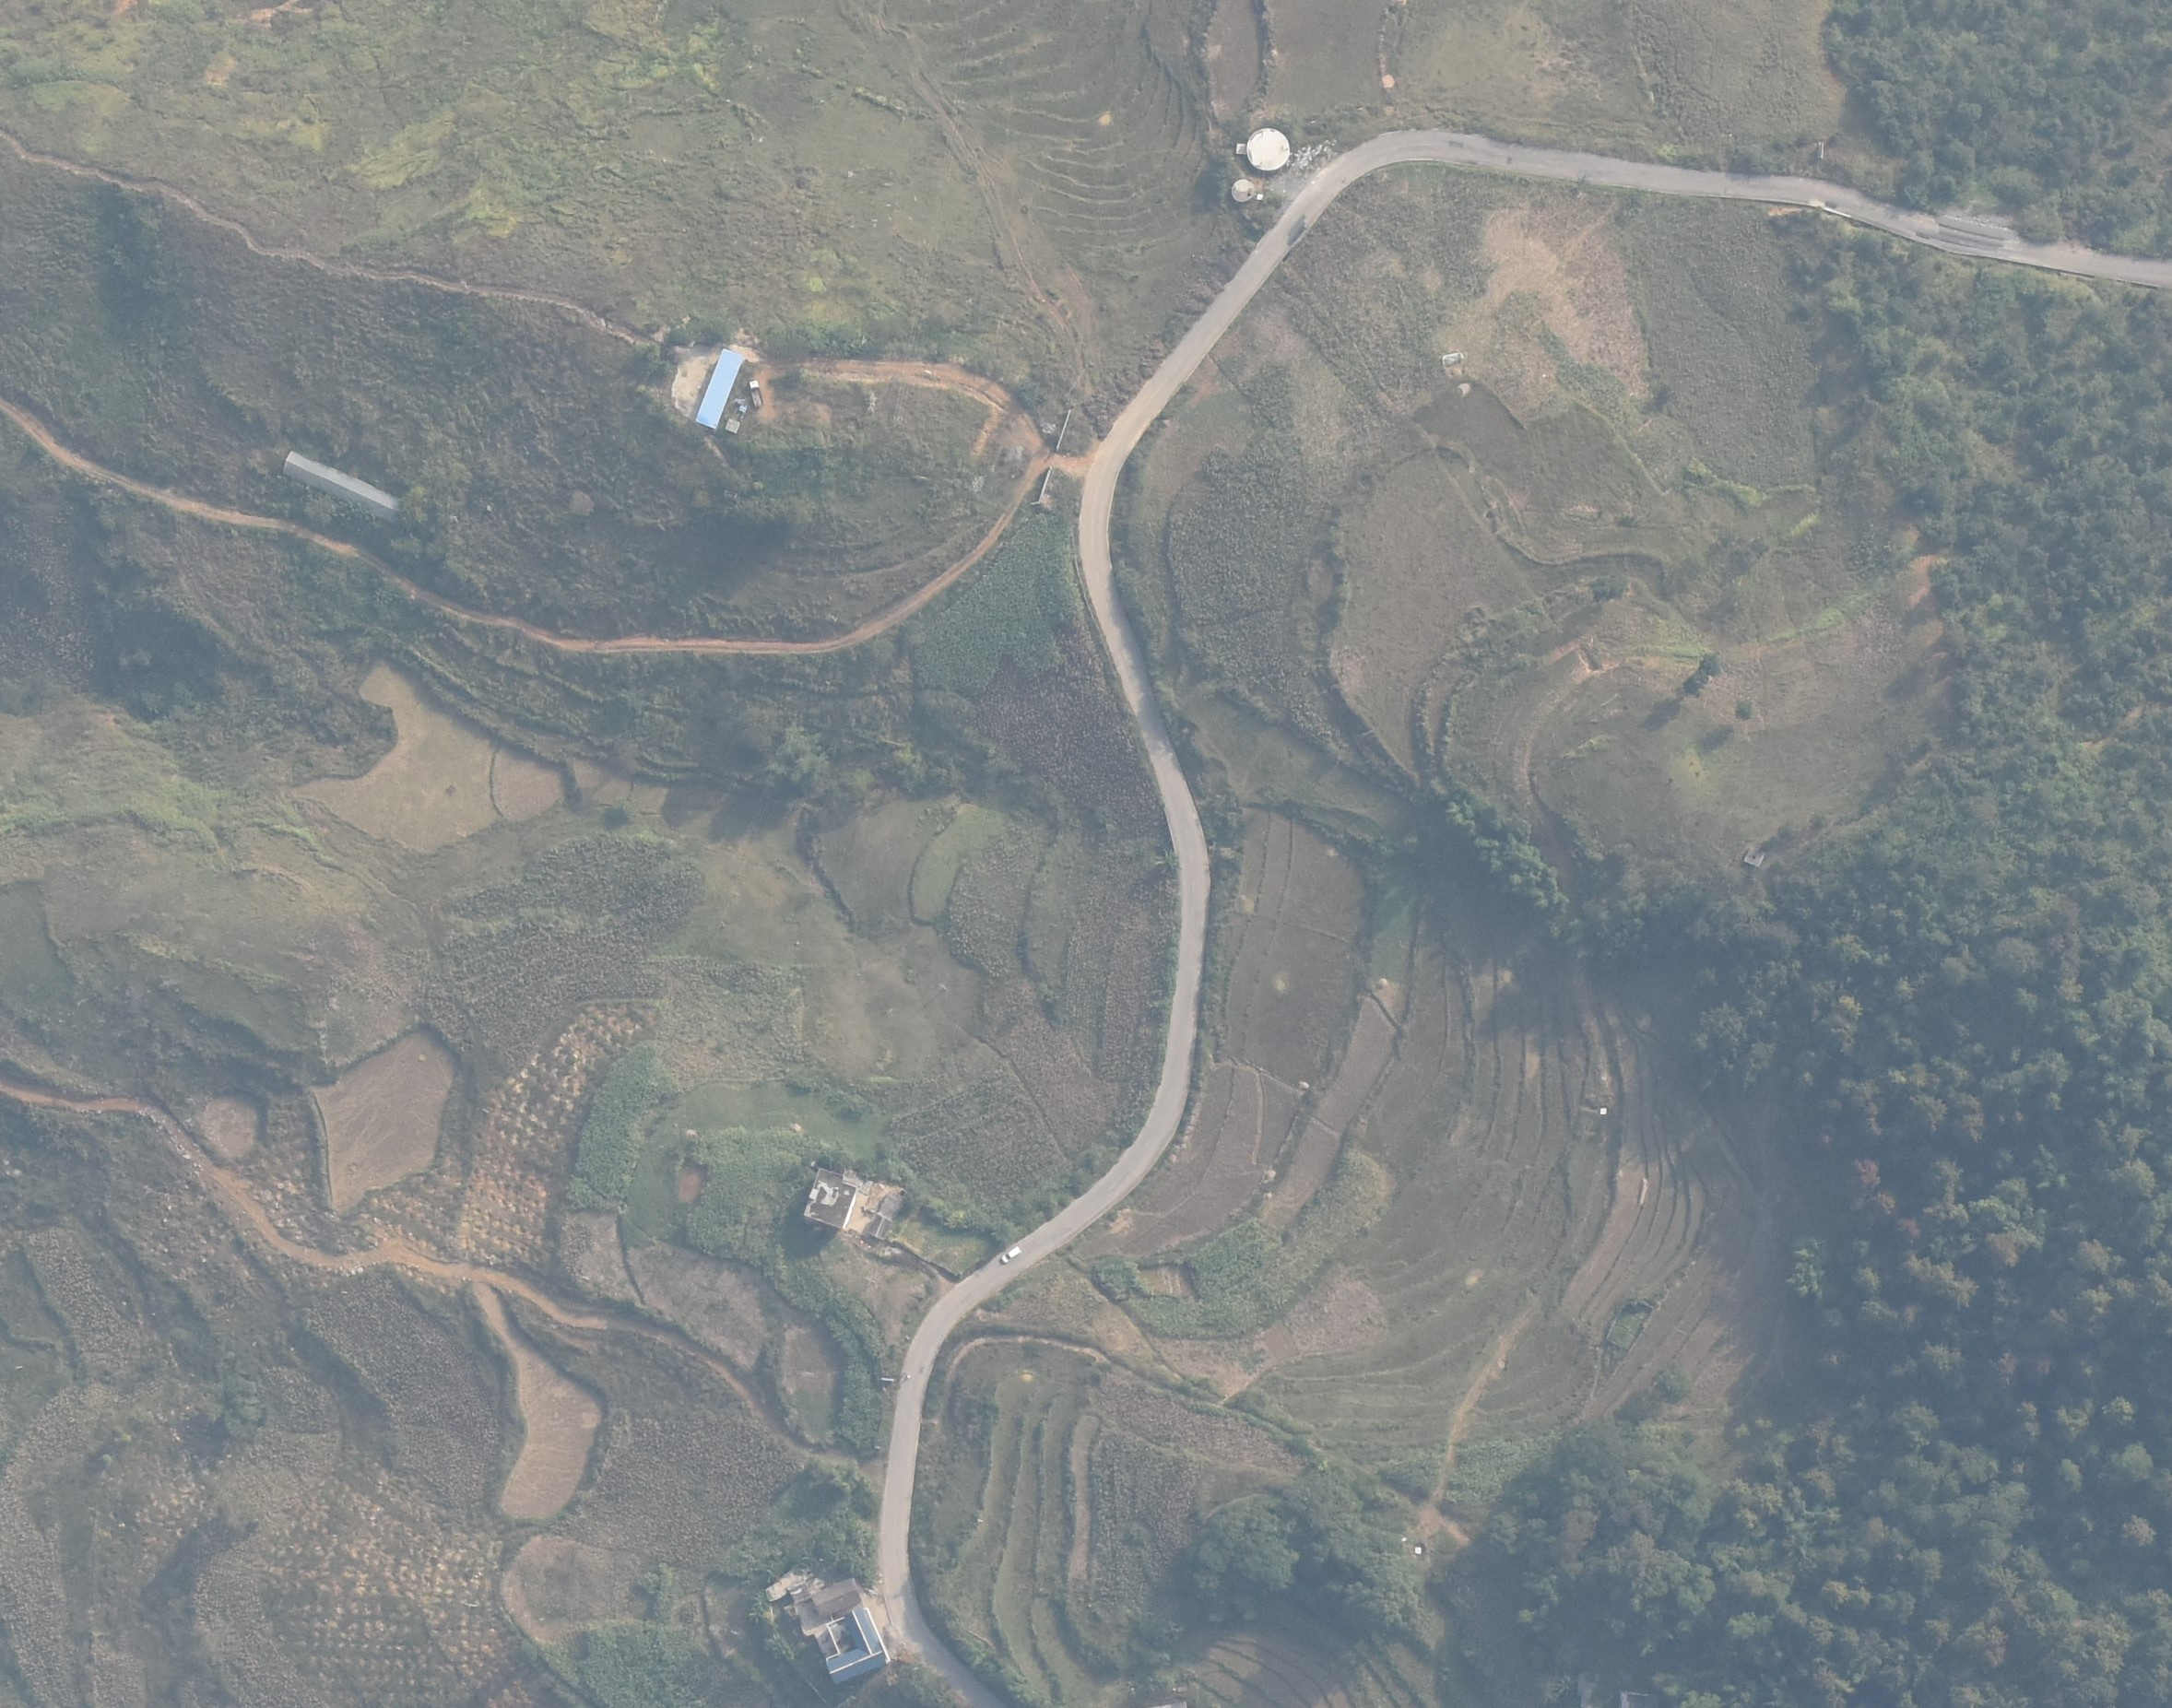building: (279, 447, 404, 534), (813, 1606, 907, 1684), (799, 1163, 869, 1241), (807, 1580, 870, 1614), (873, 1189, 908, 1225), (860, 1213, 891, 1245), (779, 1583, 814, 1606)
prefabricated-house: (686, 341, 747, 436)
vehicle: (989, 1238, 1023, 1270), (743, 376, 772, 411)
well: (1244, 124, 1295, 173), (1226, 171, 1259, 205)
